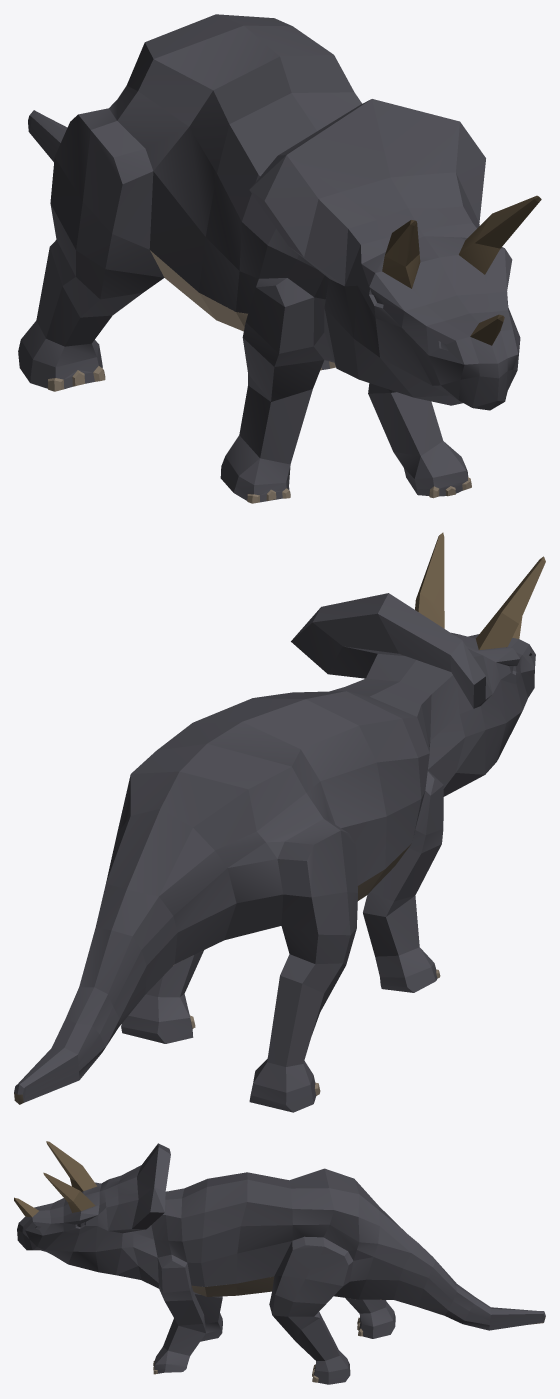
Rendered from dino-triceratops.glb.
3 renders of one model, top to bottom at view 1: azimuth 30°, elevation 25°; view 2: azimuth 150°, elevation 25°; view 3: azimuth 270°, elevation 25°, orthographic. The views are drawn at different scales.
Parts seen in each view (by area): view 1: Cylinder, Cylinder_2, Cylinder_1; view 2: Cylinder, Cylinder_2, Cylinder_1; view 3: Cylinder, Cylinder_2, Cylinder_1.
Part boxes in pixels (left/top/right/bottom): Cylinder: left=18, top=14, right=520, bottom=502; Cylinder_2: left=382, top=195, right=541, bottom=345; Cylinder_1: left=48, top=250, right=471, bottom=503; Cylinder: left=14, top=593, right=535, bottom=1112; Cylinder_2: left=415, top=532, right=545, bottom=650; Cylinder_1: left=14, top=843, right=440, bottom=1104; Cylinder: left=17, top=1143, right=545, bottom=1384; Cylinder_2: left=14, top=1141, right=97, bottom=1217; Cylinder_1: left=153, top=1276, right=545, bottom=1382.
Bounding box in the file's own units: 1.86 × 2.82 × 6.61.
